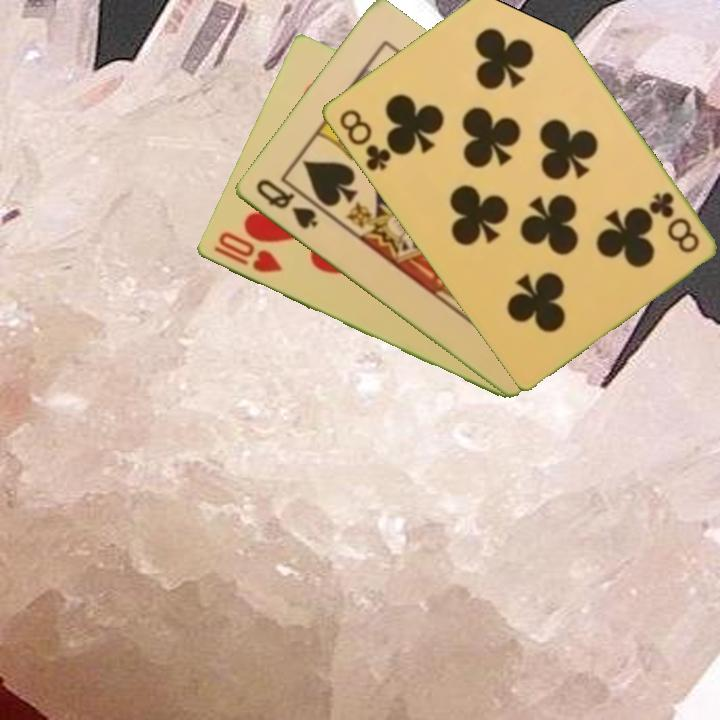10h: (209, 228, 284, 276)
8c: (335, 105, 394, 174), (644, 188, 702, 257)
Qs: (252, 175, 320, 232)
